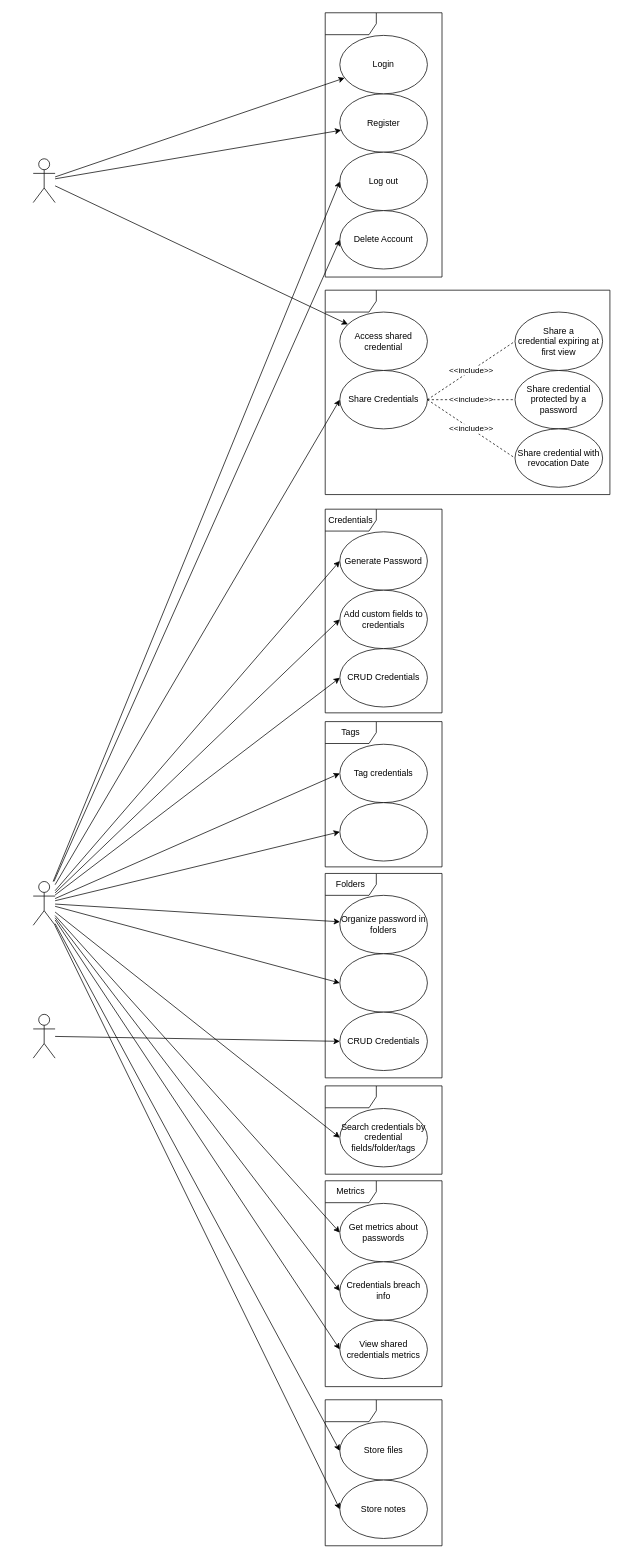
The diagram is 623 pixels wide and 1559 high, and some of its shapes have lost their labels. Each missing label, with the box of its shape:
Connected User: (32, 881, 55, 925)
CRUD Folders: (339, 953, 427, 1012)
CRUD Tags: (339, 802, 427, 861)
Encrypted Storage: (324, 1399, 442, 1546)
Folder Admin: (32, 1014, 55, 1058)
Guest User: (32, 158, 55, 203)
Search: (324, 1085, 442, 1174)
Sharing: (324, 289, 610, 495)
User: (324, 12, 442, 277)
